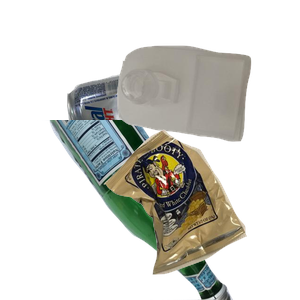glass: (37, 120, 262, 300)
metal: (65, 65, 231, 192)
plastic: (115, 43, 300, 177)
trash: (101, 127, 300, 300)
